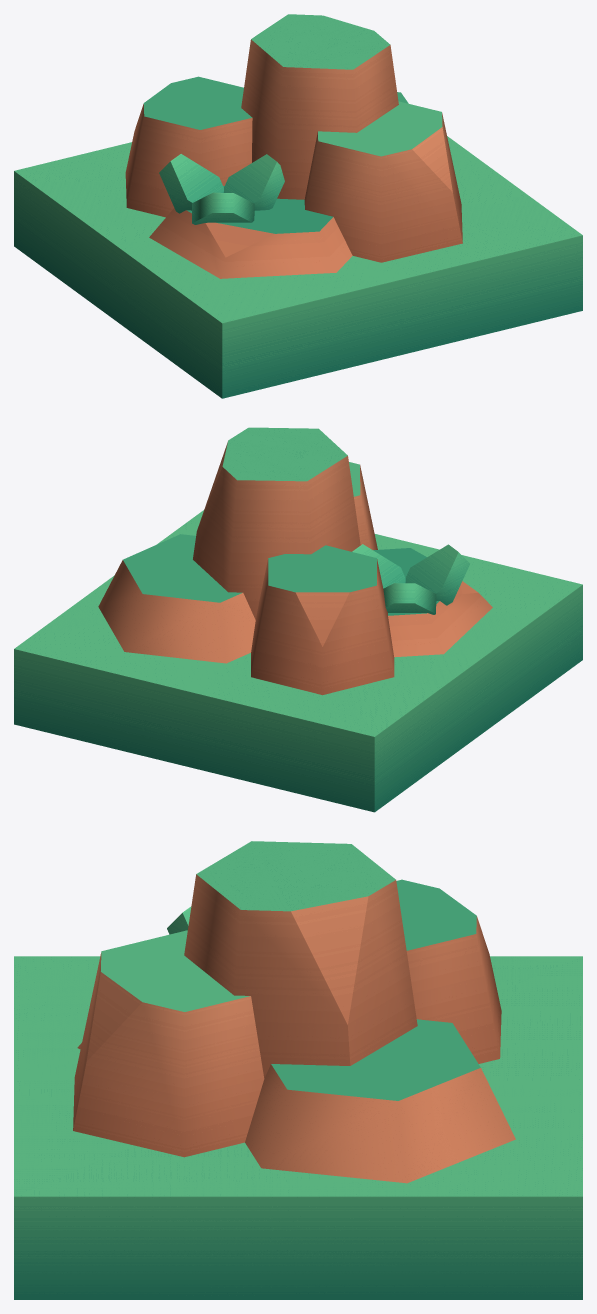
The model's file is tower-defense-kit--tile-rock.glb.
The picture shows the model from 3 angles, top to bottom: view 1: azimuth 30°, elevation 25°; view 2: azimuth 150°, elevation 25°; view 3: azimuth 270°, elevation 25°; orthographic projection. The views are drawn at different scales.
Visible parts, largest first — view 1: tile-rock; view 2: tile-rock; view 3: tile-rock.
Boxes of the visible parts, box(x1,y1,x2,y2) form: tile-rock: box(14, 14, 582, 398); tile-rock: box(14, 427, 582, 812); tile-rock: box(14, 841, 582, 1299).
Bounding box in the file's own units: 1 × 0.6145 × 1.
Materials: 1 (1 with a texture image).
